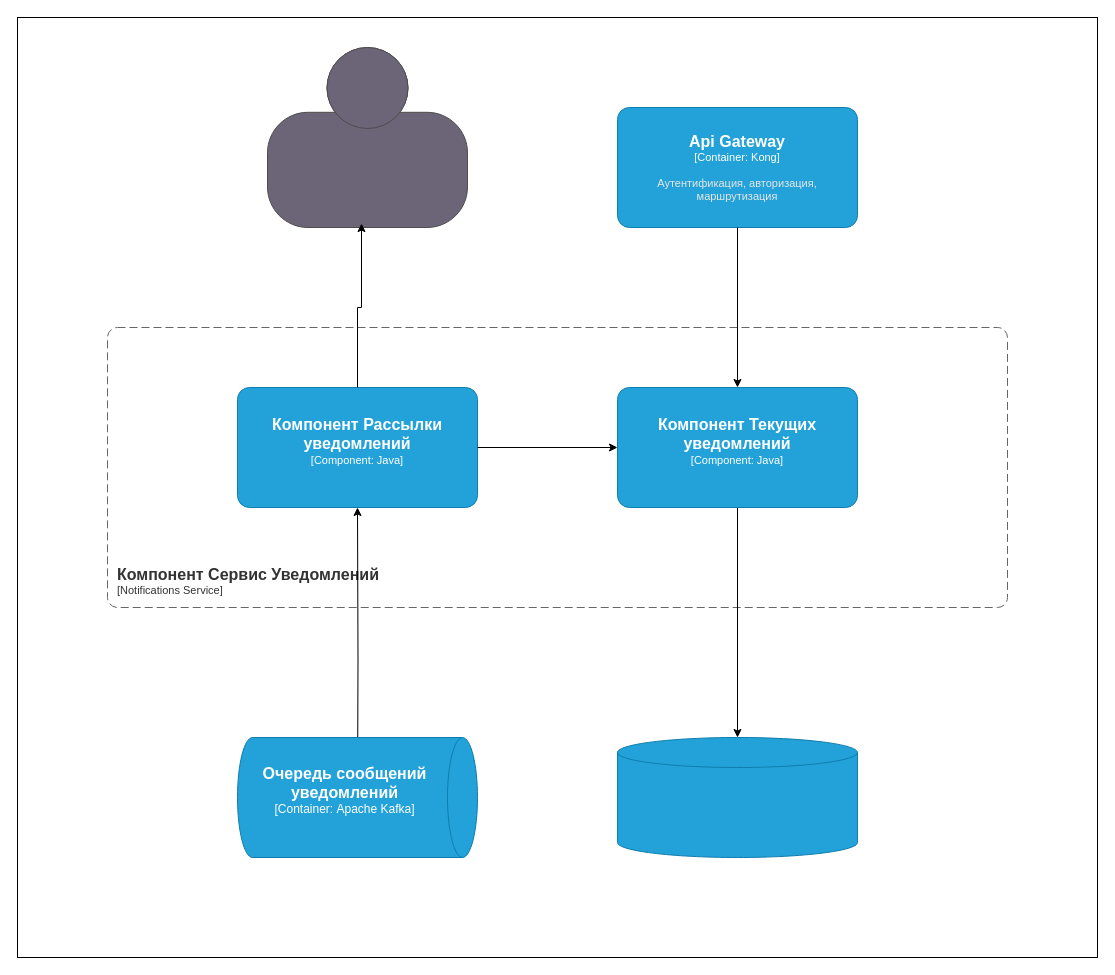
Image size: 1115x975. Some labels were removed from this diagram. The box of each missing label's shape, as (x1, y1, x2, y2) in pixels:
БД уведомлений [Container: Cassandra - колоночная БД]: (616, 736, 858, 858)
Пользователь [Писемный ящик]: (266, 46, 468, 228)
